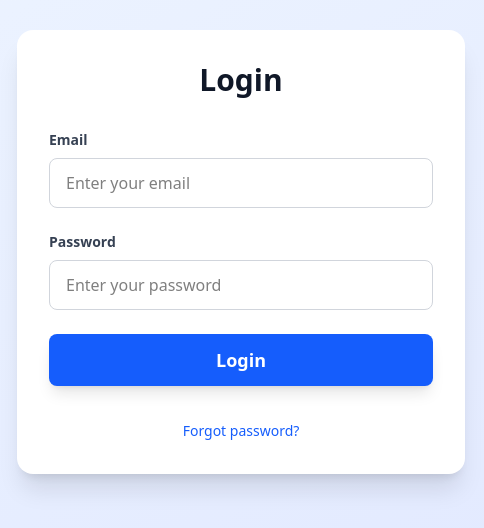
LoginForm › shows validation errors for short password
The image size is (484, 528).
Type "test@example.com" into the field labelled "Email" at (241, 183), box [49,158,433,208]
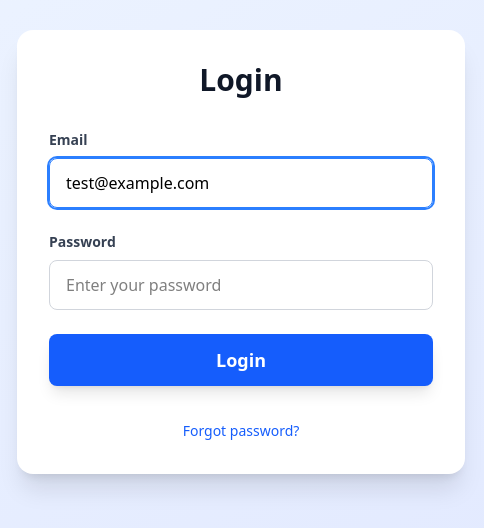
Type "short" into the password field labelled "Password" at (241, 285), box [49,260,433,310]
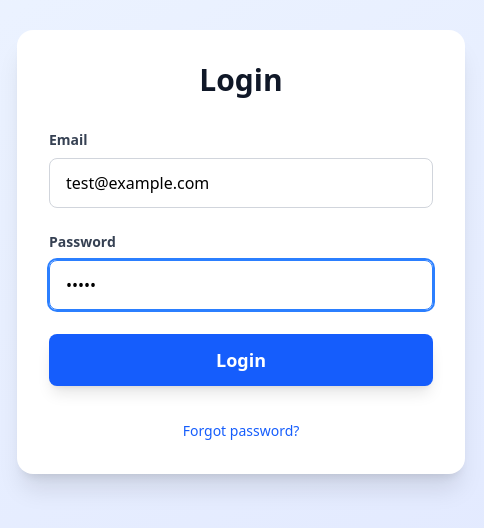
Click the button "Login" at (241, 360), box [49,334,433,386]
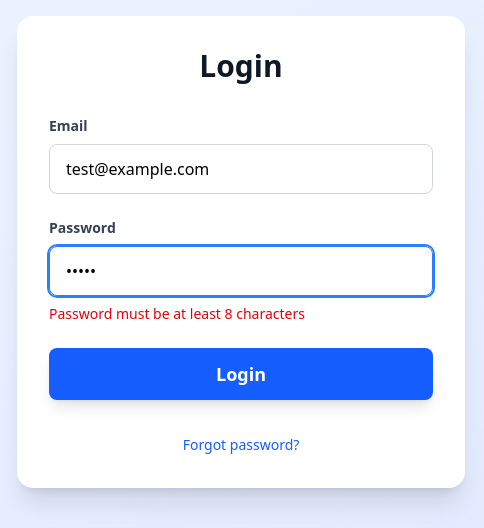
Check: the text "Password must be at least 8 characters" is shown, box [49,304,305,323]
